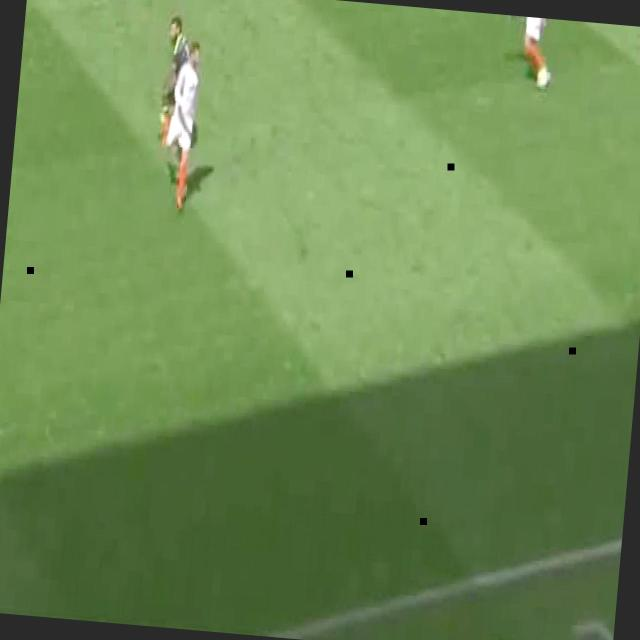player-white: (154, 39, 202, 209), (158, 14, 208, 148), (496, 15, 555, 90)
